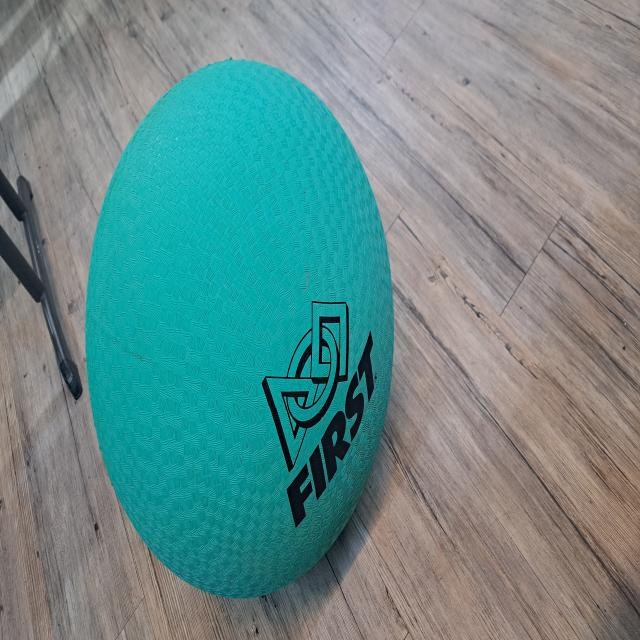ALGAE: (84, 56, 395, 600)
